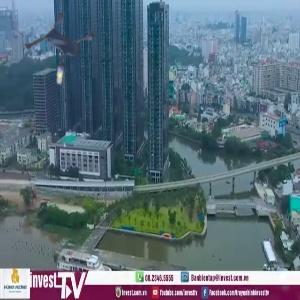drone: (10, 3, 109, 102)
